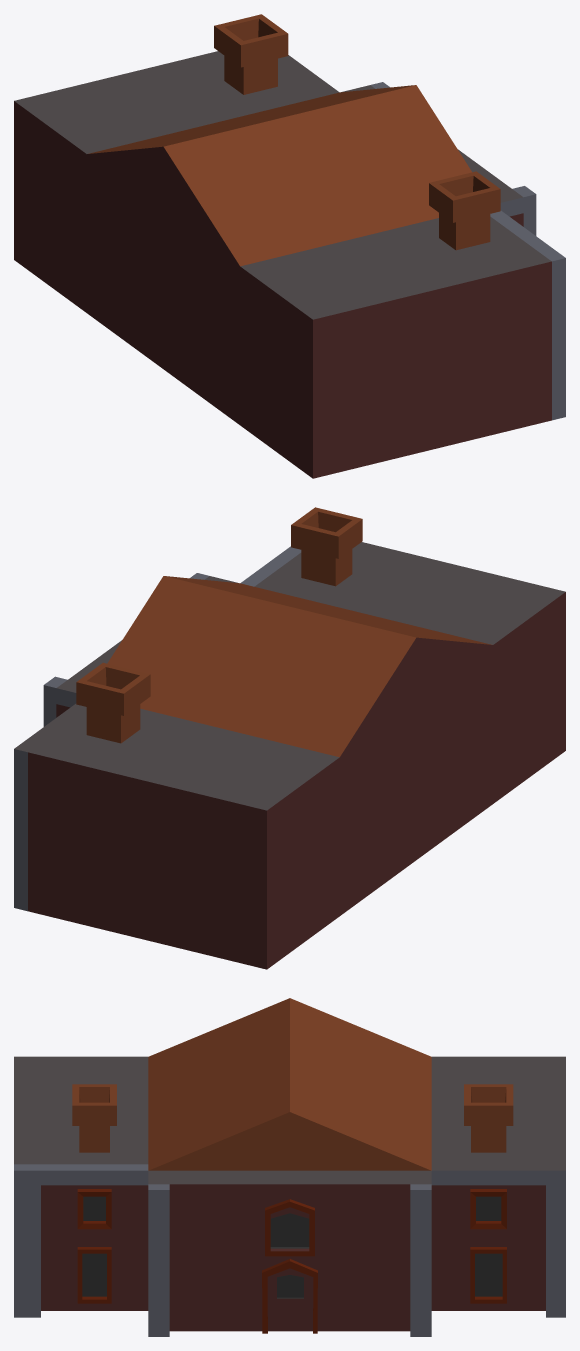
The model's file is Level 1 Wide House.fbx.
3 views of the same model, one above another, from view 1: azimuth 30°, elevation 25°; view 2: azimuth 150°, elevation 25°; view 3: azimuth 270°, elevation 25° (orthographic). The views are drawn at different scales.
Visible parts, largest first — view 1: Plane.011; view 2: Plane.011; view 3: Plane.011.
Boxes of the visible parts, x1,y1,x2,y2 form: Plane.011: [14, 14, 565, 478]; Plane.011: [14, 507, 565, 969]; Plane.011: [14, 998, 565, 1336].
Size of the model in its own units: 1031 by 741 by 1803.
